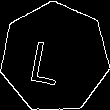L_N: (35, 30, 74, 85)
